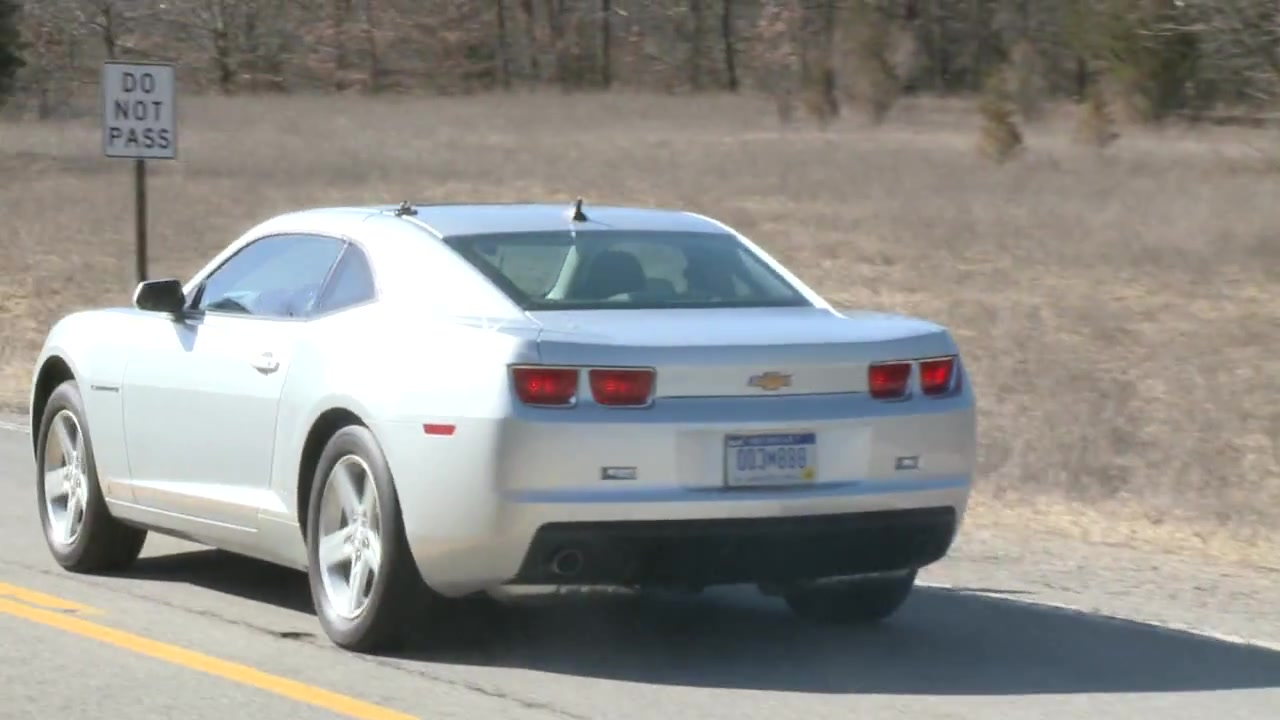car: (29, 203, 981, 651)
